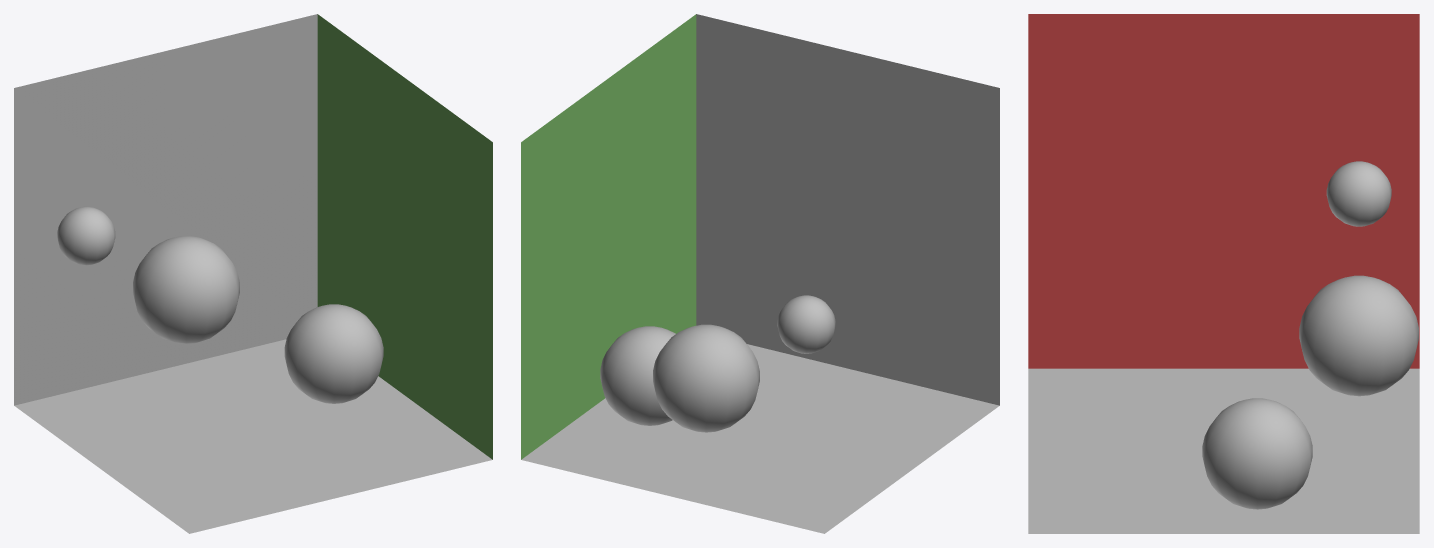
The model's file is CornellWithSphere.gltf.
The picture shows the model from 3 angles, left to right: view 1: azimuth 30°, elevation 25°; view 2: azimuth 150°, elevation 25°; view 3: azimuth 270°, elevation 25°; orthographic projection. The views are drawn at different scales.
Visible parts, largest first — view 1: BackWall, RightWall, BotWall, pSphere2, pSphere4, pSphere3; view 2: FrontWall, RightWall, BotWall, pSphere2, pSphere4, pSphere3; view 3: LeftWall, BotWall, pSphere2, pSphere4, pSphere3.
Boxes of the visible parts, box(x1,y1,x2,y2) form: BackWall: box(14, 14, 317, 405); RightWall: box(317, 14, 492, 459); BotWall: box(14, 339, 492, 533); pSphere2: box(133, 236, 239, 343); pSphere4: box(284, 304, 383, 403); pSphere3: box(57, 206, 115, 265); FrontWall: box(696, 14, 999, 405); RightWall: box(521, 14, 696, 459); BotWall: box(521, 344, 999, 533); pSphere2: box(653, 324, 759, 432); pSphere4: box(600, 326, 675, 425); pSphere3: box(777, 295, 835, 353); LeftWall: box(1028, 14, 1419, 368); BotWall: box(1028, 368, 1419, 533); pSphere2: box(1299, 275, 1418, 396); pSphere4: box(1202, 398, 1312, 509); pSphere3: box(1326, 161, 1391, 226).
Bounding box in the file's own units: 9 × 9.02 × 9.
